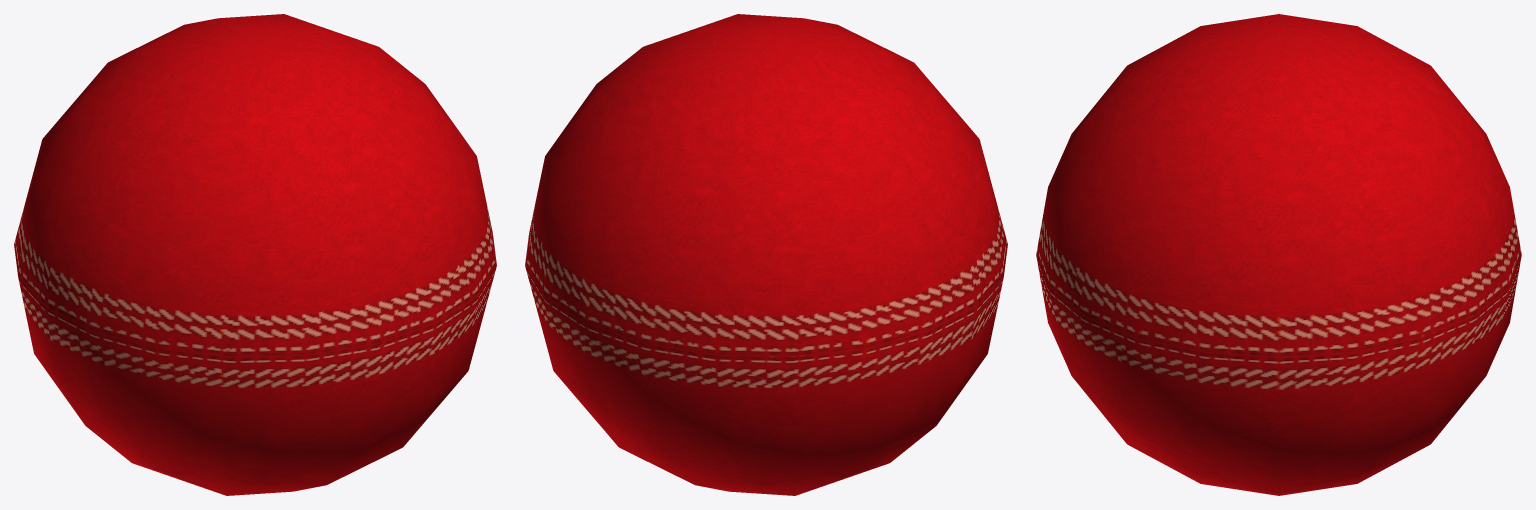
Rendered from cricket_ball.FBX.
3 renders of one model, left to right at view 1: azimuth 30°, elevation 25°; view 2: azimuth 150°, elevation 25°; view 3: azimuth 270°, elevation 25°, orthographic.
Parts seen in each view (by area): view 1: cricket_ball; view 2: cricket_ball; view 3: cricket_ball.
Part boxes in pixels (x1=…): cricket_ball: x1=14, y1=14, x2=496, y2=495; cricket_ball: x1=525, y1=14, x2=1007, y2=495; cricket_ball: x1=1036, y1=14, x2=1521, y2=495.
Bounding box in the file's own units: 3.5 × 3.5 × 3.5.
Materials: 1 (1 with a texture image).
